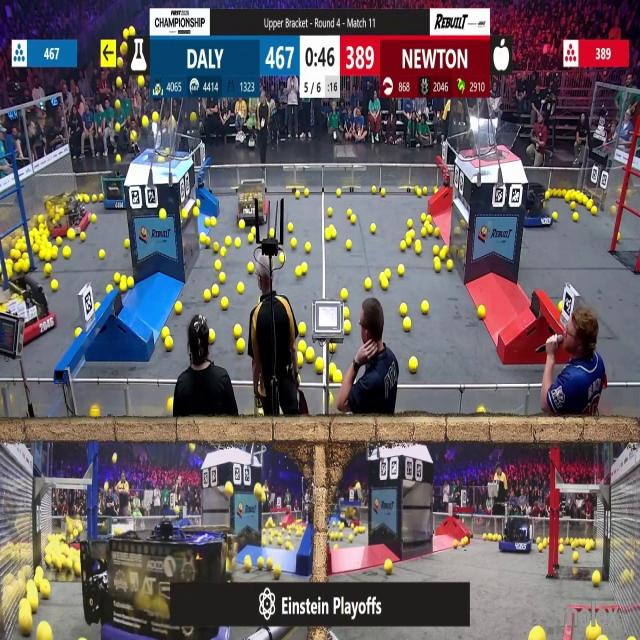ball_airborne: (118, 41, 126, 55), (224, 484, 232, 498), (160, 209, 168, 221), (254, 484, 261, 497), (115, 77, 122, 87), (116, 59, 123, 69), (142, 115, 148, 126), (152, 112, 158, 122), (139, 76, 145, 86), (132, 131, 138, 141), (190, 112, 196, 122), (259, 493, 265, 502), (115, 100, 120, 110), (115, 122, 120, 132), (112, 454, 117, 464), (165, 148, 171, 156), (116, 153, 120, 161)
ball_ground: (21, 613, 33, 637), (39, 624, 51, 640), (40, 582, 50, 600), (530, 628, 544, 640), (592, 571, 602, 586), (409, 356, 418, 372), (30, 597, 39, 612), (384, 560, 392, 575), (316, 358, 324, 373), (244, 557, 252, 572), (334, 372, 343, 385), (235, 324, 243, 338), (274, 564, 282, 578), (74, 562, 82, 576), (402, 318, 410, 331), (344, 321, 352, 334), (208, 331, 216, 344), (204, 289, 212, 302), (298, 322, 306, 335), (306, 349, 314, 362), (220, 296, 228, 309), (238, 340, 245, 354), (92, 408, 100, 420), (297, 342, 305, 353), (175, 303, 182, 315), (50, 280, 57, 292), (399, 305, 406, 317), (257, 558, 264, 570), (422, 302, 428, 316), (479, 307, 486, 319), (166, 339, 173, 351), (23, 262, 30, 274), (168, 398, 174, 412), (13, 262, 20, 274), (10, 249, 18, 259), (218, 273, 225, 284), (364, 279, 371, 290), (434, 261, 440, 273), (344, 308, 350, 320), (64, 247, 70, 259), (212, 284, 218, 296), (51, 248, 57, 260), (342, 288, 348, 300), (44, 266, 50, 278), (442, 247, 448, 259), (68, 231, 75, 241), (214, 262, 221, 272), (447, 262, 454, 272), (163, 327, 170, 337), (210, 216, 217, 226), (269, 230, 276, 240), (302, 265, 309, 275), (397, 266, 403, 277), (416, 244, 422, 255), (238, 283, 244, 294), (382, 279, 388, 290), (296, 355, 302, 366), (572, 552, 578, 563), (201, 234, 207, 245), (461, 536, 468, 545), (420, 213, 427, 222), (100, 249, 106, 259), (290, 239, 296, 249), (114, 274, 120, 284), (128, 278, 134, 288), (239, 219, 245, 229), (306, 243, 312, 253), (268, 558, 274, 568), (572, 212, 578, 222), (324, 232, 330, 242), (385, 270, 391, 280), (399, 242, 405, 252), (421, 228, 427, 238), (295, 268, 301, 278), (75, 327, 81, 337), (220, 246, 226, 256), (408, 218, 414, 228), (213, 241, 219, 251), (119, 282, 125, 292), (328, 362, 334, 372), (572, 567, 578, 577), (182, 210, 188, 220), (587, 200, 593, 210), (406, 240, 413, 248), (478, 408, 486, 415), (409, 231, 416, 239), (248, 264, 253, 275), (39, 250, 44, 261), (236, 239, 242, 248), (224, 238, 230, 247), (330, 231, 336, 240), (326, 208, 332, 217), (329, 344, 335, 353), (192, 208, 198, 217), (205, 217, 211, 226), (347, 240, 352, 250), (427, 226, 432, 236), (79, 234, 85, 242), (123, 240, 129, 248), (248, 236, 254, 244), (570, 202, 576, 210), (452, 539, 458, 547), (348, 534, 354, 542), (286, 542, 292, 550), (33, 245, 39, 253), (276, 536, 282, 544), (370, 223, 375, 232), (433, 246, 438, 255), (351, 215, 356, 224), (434, 229, 439, 238), (7, 271, 12, 280), (370, 186, 376, 193), (586, 543, 592, 550), (280, 253, 284, 263), (93, 214, 98, 222), (58, 238, 63, 246), (251, 225, 256, 233), (106, 284, 111, 292), (537, 543, 542, 551), (592, 207, 597, 215), (258, 410, 263, 418), (381, 188, 386, 196), (417, 188, 422, 196), (565, 195, 570, 203), (100, 192, 105, 200), (288, 222, 292, 231), (305, 189, 310, 196), (423, 187, 428, 194), (432, 186, 437, 193), (348, 209, 352, 217), (560, 544, 564, 552), (554, 212, 558, 220), (338, 188, 342, 196), (94, 194, 98, 202), (618, 234, 622, 242), (488, 534, 493, 540), (295, 191, 299, 198), (195, 201, 199, 208), (536, 536, 540, 543), (560, 537, 564, 544), (484, 533, 488, 540), (600, 636, 606, 640)
goal: (464, 121, 520, 160), (128, 128, 190, 161)
robot_blue: (84, 529, 172, 638), (523, 183, 554, 228), (102, 162, 128, 209), (501, 517, 533, 553)
robot_red: (2, 276, 57, 346), (46, 192, 90, 237), (235, 179, 268, 224), (338, 507, 362, 528)
